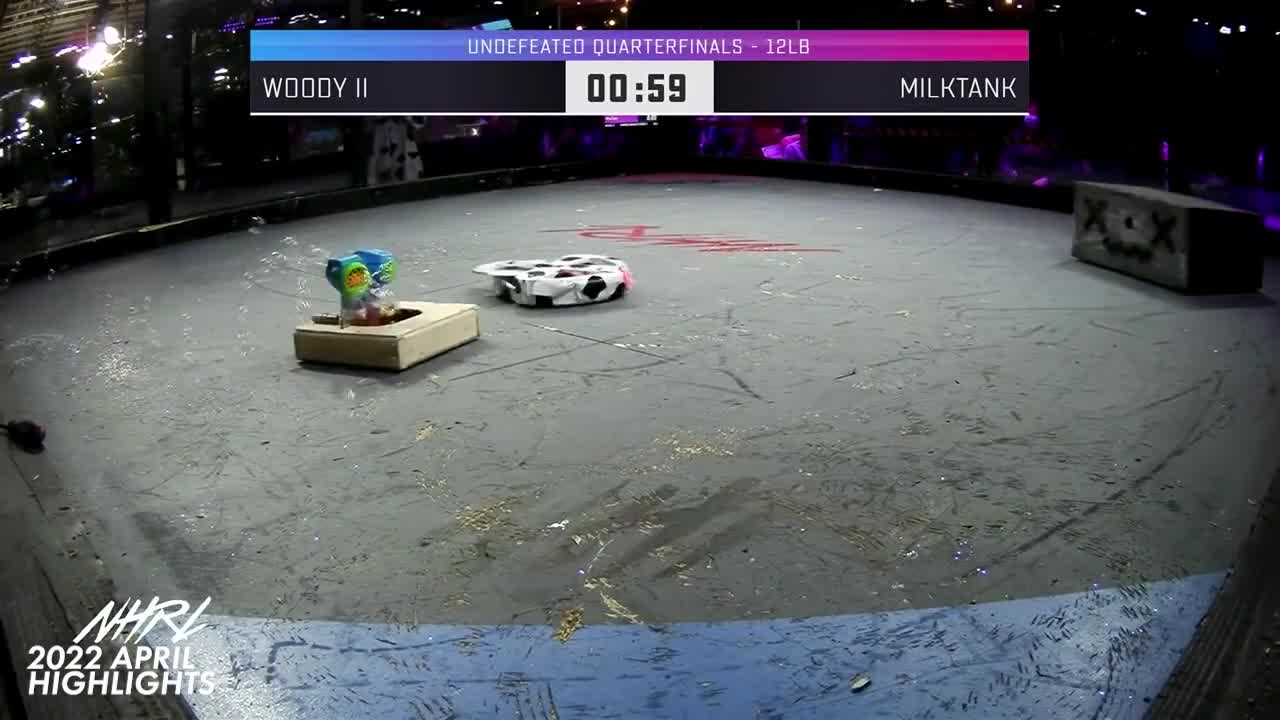combatbot: (290, 248, 480, 374), (496, 254, 634, 308)
debris: (2, 418, 48, 453)
housebot: (1069, 182, 1270, 296)
